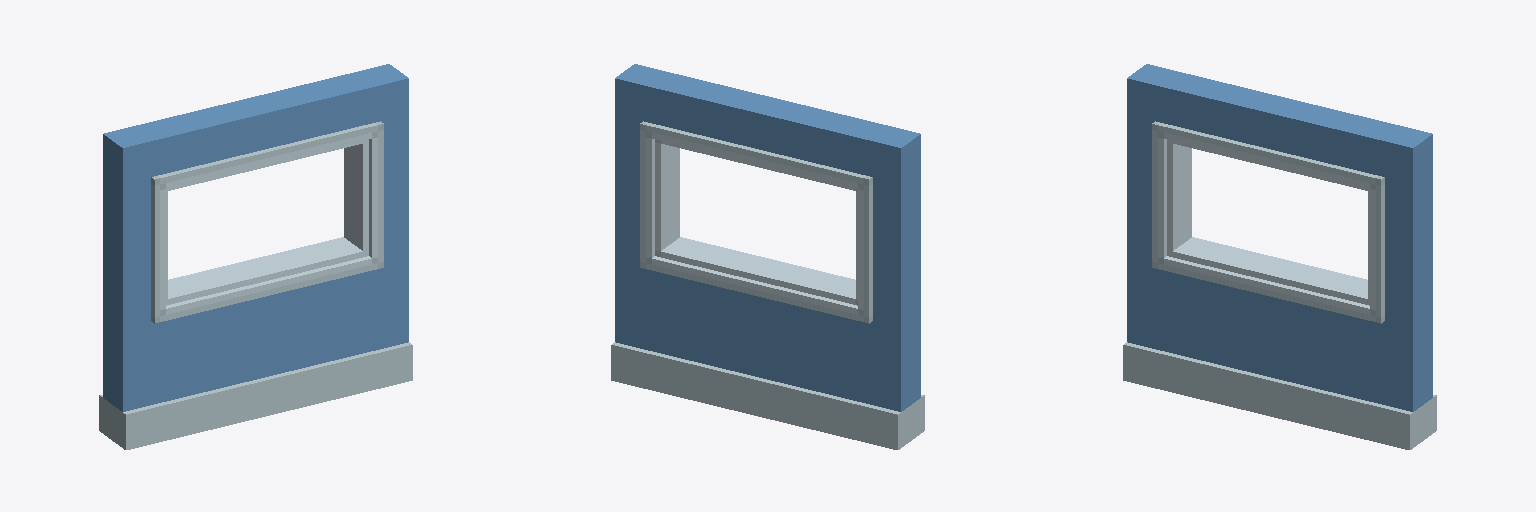
3 renders of one model, left to right at view 1: azimuth 30°, elevation 25°; view 2: azimuth 150°, elevation 25°; view 3: azimuth 330°, elevation 25°, orthographic.
Parts seen in each view (by area): view 1: object 1; view 2: object 1; view 3: object 1.
Part boxes in pixels (bbox=[...]): object 1: bbox=[99, 64, 412, 449]; object 1: bbox=[611, 64, 924, 449]; object 1: bbox=[1123, 64, 1436, 449].
Size of the model in its own units: 5 by 5 by 0.8.
Materials: 1 (1 with a texture image).